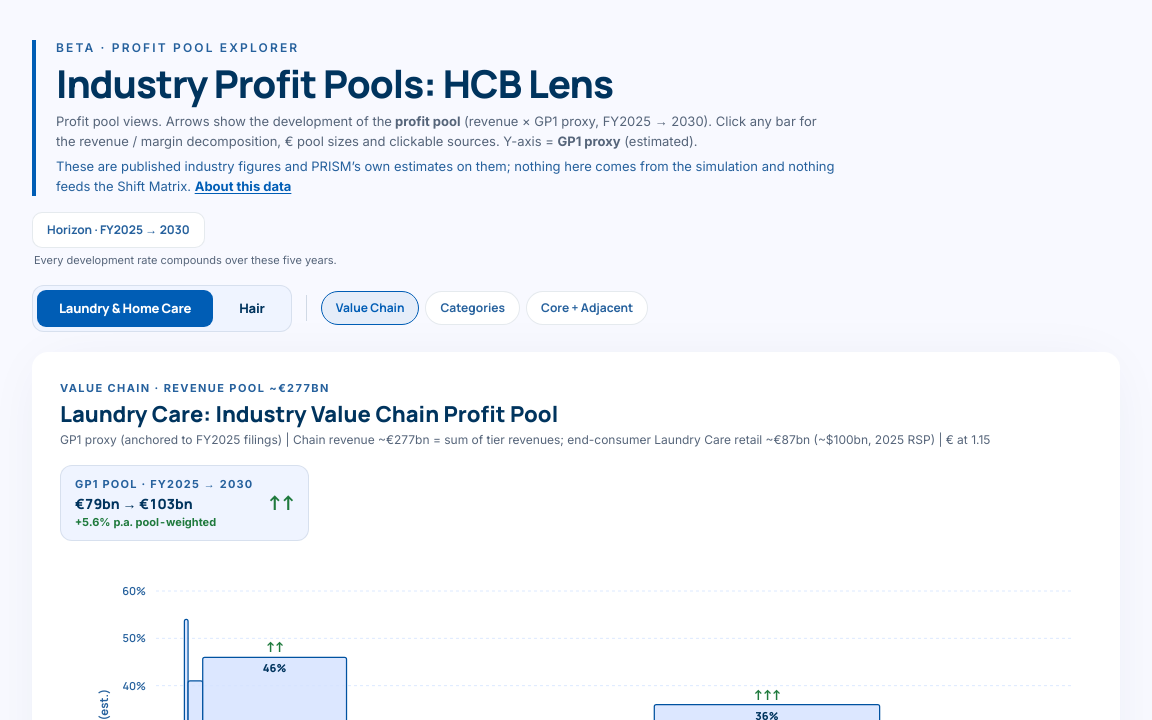
it: ProfitPoolExplorer: the page › reopens the beta notice from the header
Expected: the element named "Business area" is shown, top-left (32, 285), bottom-right (292, 332)
Click the button "About this data".
click(243, 186)  # box top-left (195, 177), bottom-right (291, 196)
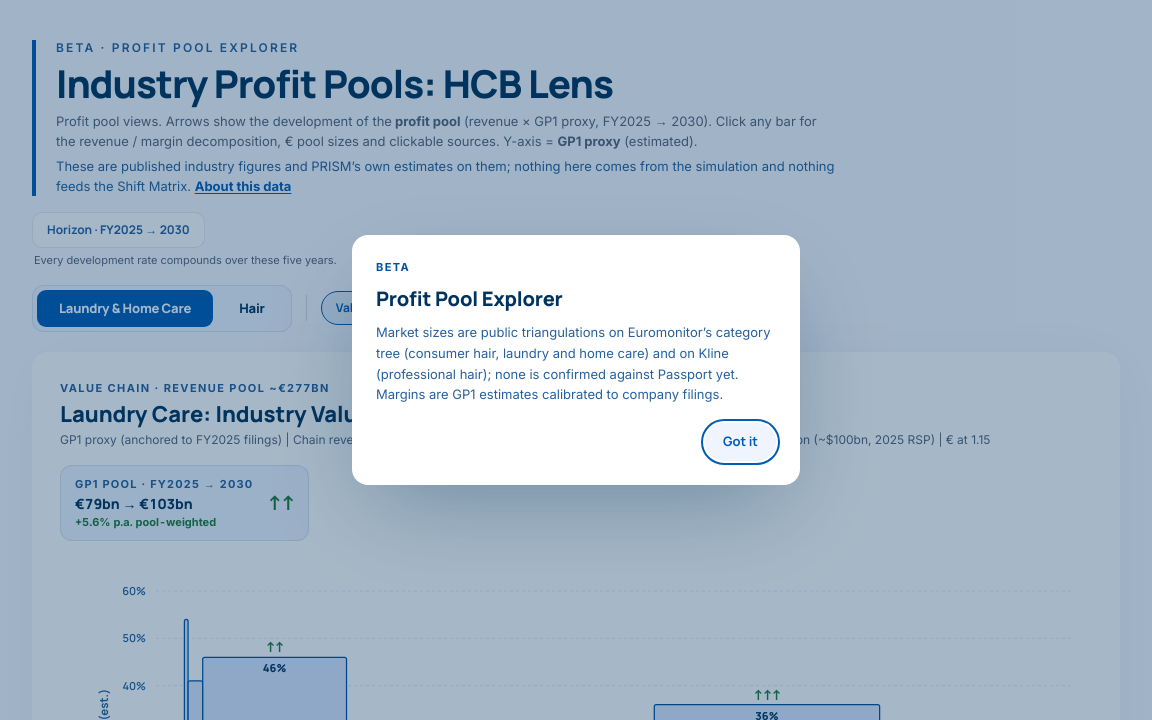
Expected: the dialog "Profit Pool Explorer" is shown, top-left (352, 235), bottom-right (800, 485)
